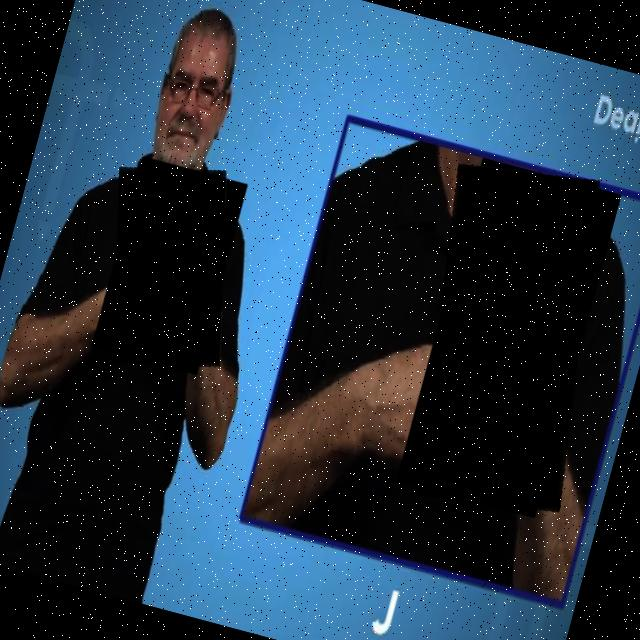J: (386, 151, 634, 525), (82, 152, 259, 385)
